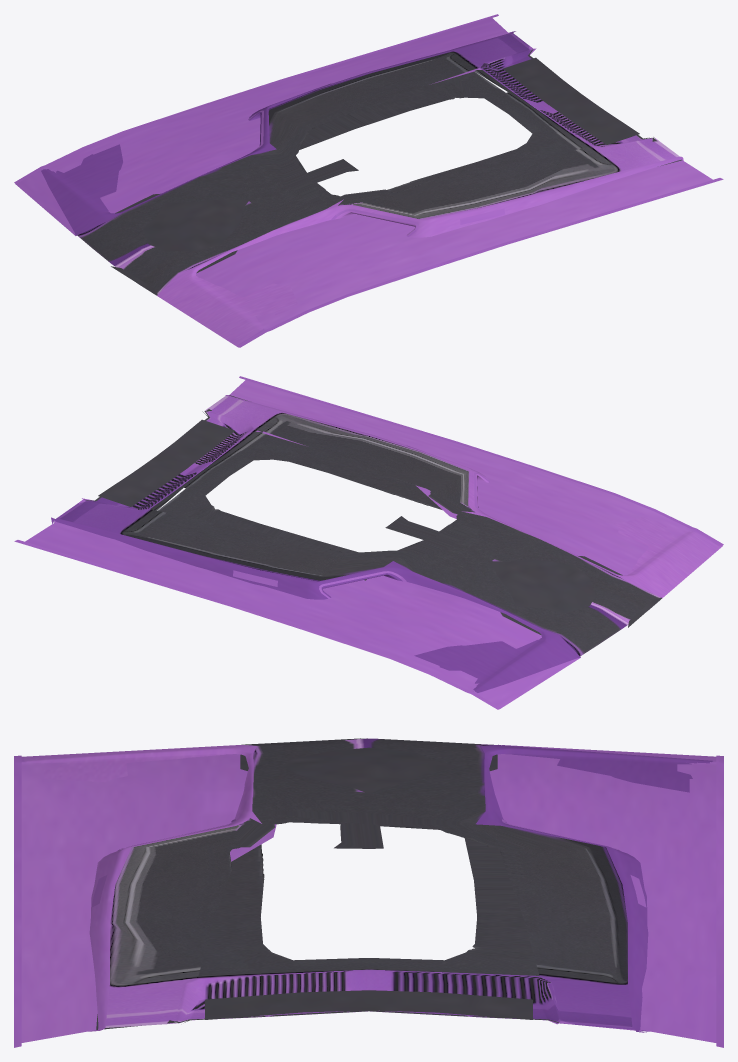
The model's file is CofTex.obj.
3 renders of one model, top to bottom at view 1: azimuth 30°, elevation 25°; view 2: azimuth 150°, elevation 25°; view 3: azimuth 270°, elevation 25°, orthographic. The views are drawn at different scales.
Visible parts, largest first — view 1: Cofre_Material.001, Cofre_Molduras; view 2: Cofre_Material.001, Cofre_Molduras; view 3: Cofre_Molduras, Cofre_Material.001.
Part boxes in pixels (<box>): Cofre_Material.001: <box>14,14,723,347</box>; Cofre_Molduras: <box>77,34,681,295</box>; Cofre_Material.001: <box>14,376,723,709</box>; Cofre_Molduras: <box>58,395,662,656</box>; Cofre_Molduras: <box>96,738,632,1029</box>; Cofre_Material.001: <box>14,744,723,1047</box>.
Size of the model in its own units: 13.79 by 1.63 by 10.78.
